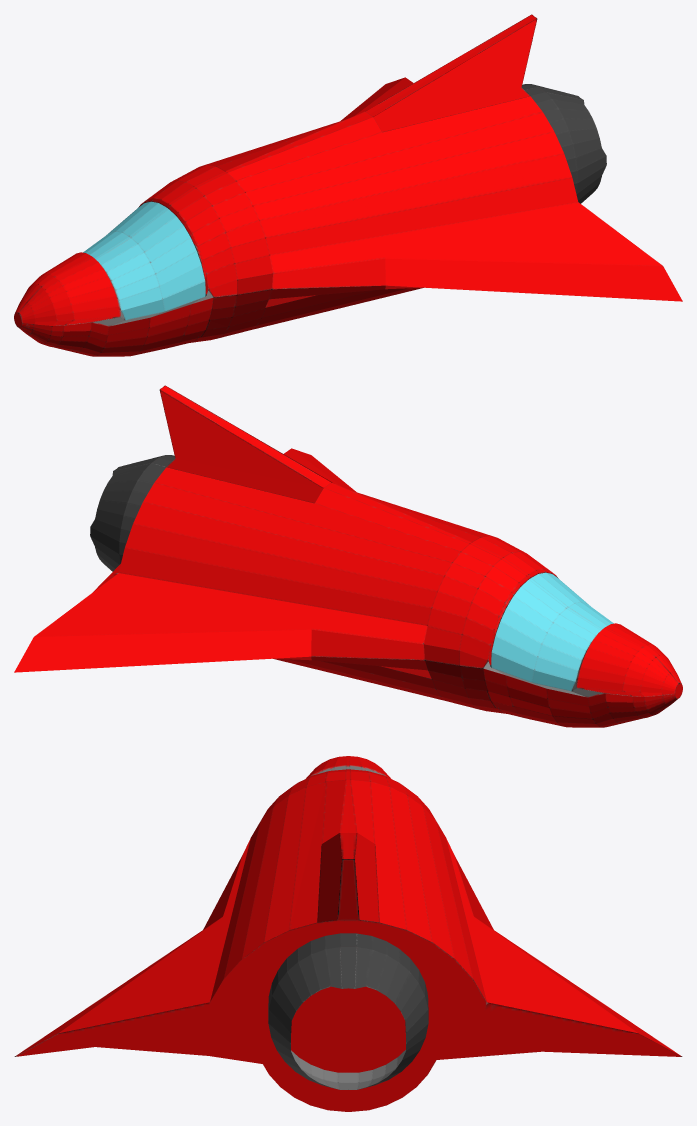
File: ProjectAlphaPlane.fbx
The picture shows the model from 3 angles, top to bottom: view 1: azimuth 30°, elevation 25°; view 2: azimuth 150°, elevation 25°; view 3: azimuth 270°, elevation 25°; orthographic projection. The views are drawn at different scales.
Parts seen in each view (by area): view 1: Plane; view 2: Plane; view 3: Plane.
Boxes of the visible parts, x1,y1,x2,y2 form: Plane: [14, 14, 682, 356]; Plane: [14, 385, 682, 727]; Plane: [14, 756, 682, 1111].
Bounding box in the file's own units: 7.92 × 3.14 × 7.22.
